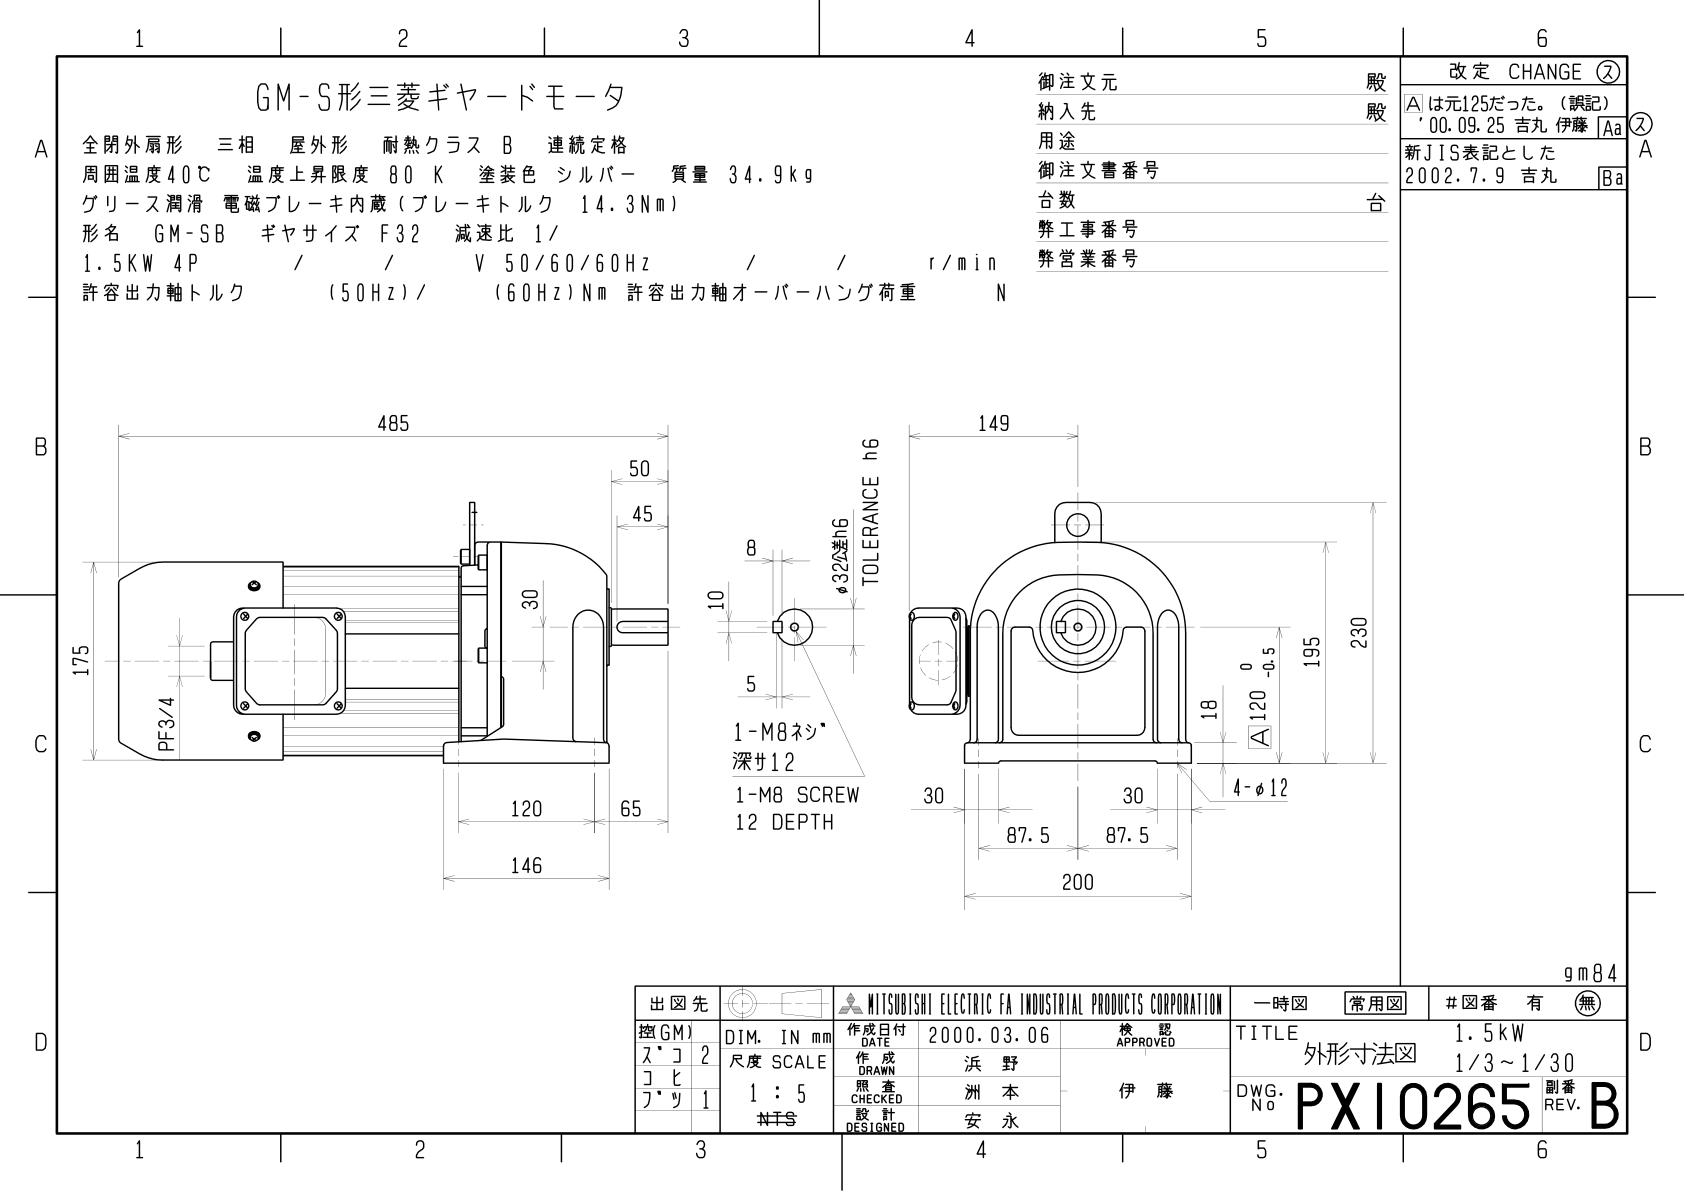GM_S_屋外＿三相_脚: (67, 369, 1395, 947)
